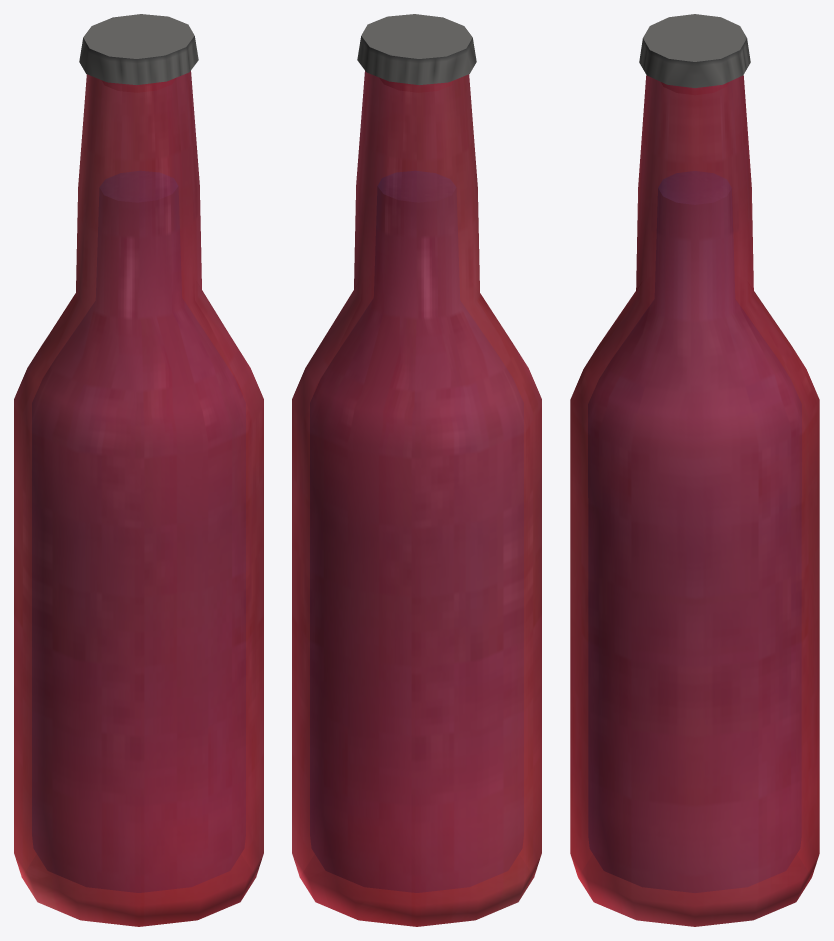
Rendered from drink01c.fbx.
3 renders of one model, left to right at view 1: azimuth 30°, elevation 25°; view 2: azimuth 150°, elevation 25°; view 3: azimuth 270°, elevation 25°, orthographic.
Parts seen in each view (by area): view 1: drink01c; view 2: drink01c; view 3: drink01c.
Boxes of the visible parts, <box> form: drink01c: <box>14,14,263,926</box>; drink01c: <box>292,14,541,926</box>; drink01c: <box>570,14,819,926</box>.
Size of the model in its own units: 7.1 by 26.37 by 7.1.
